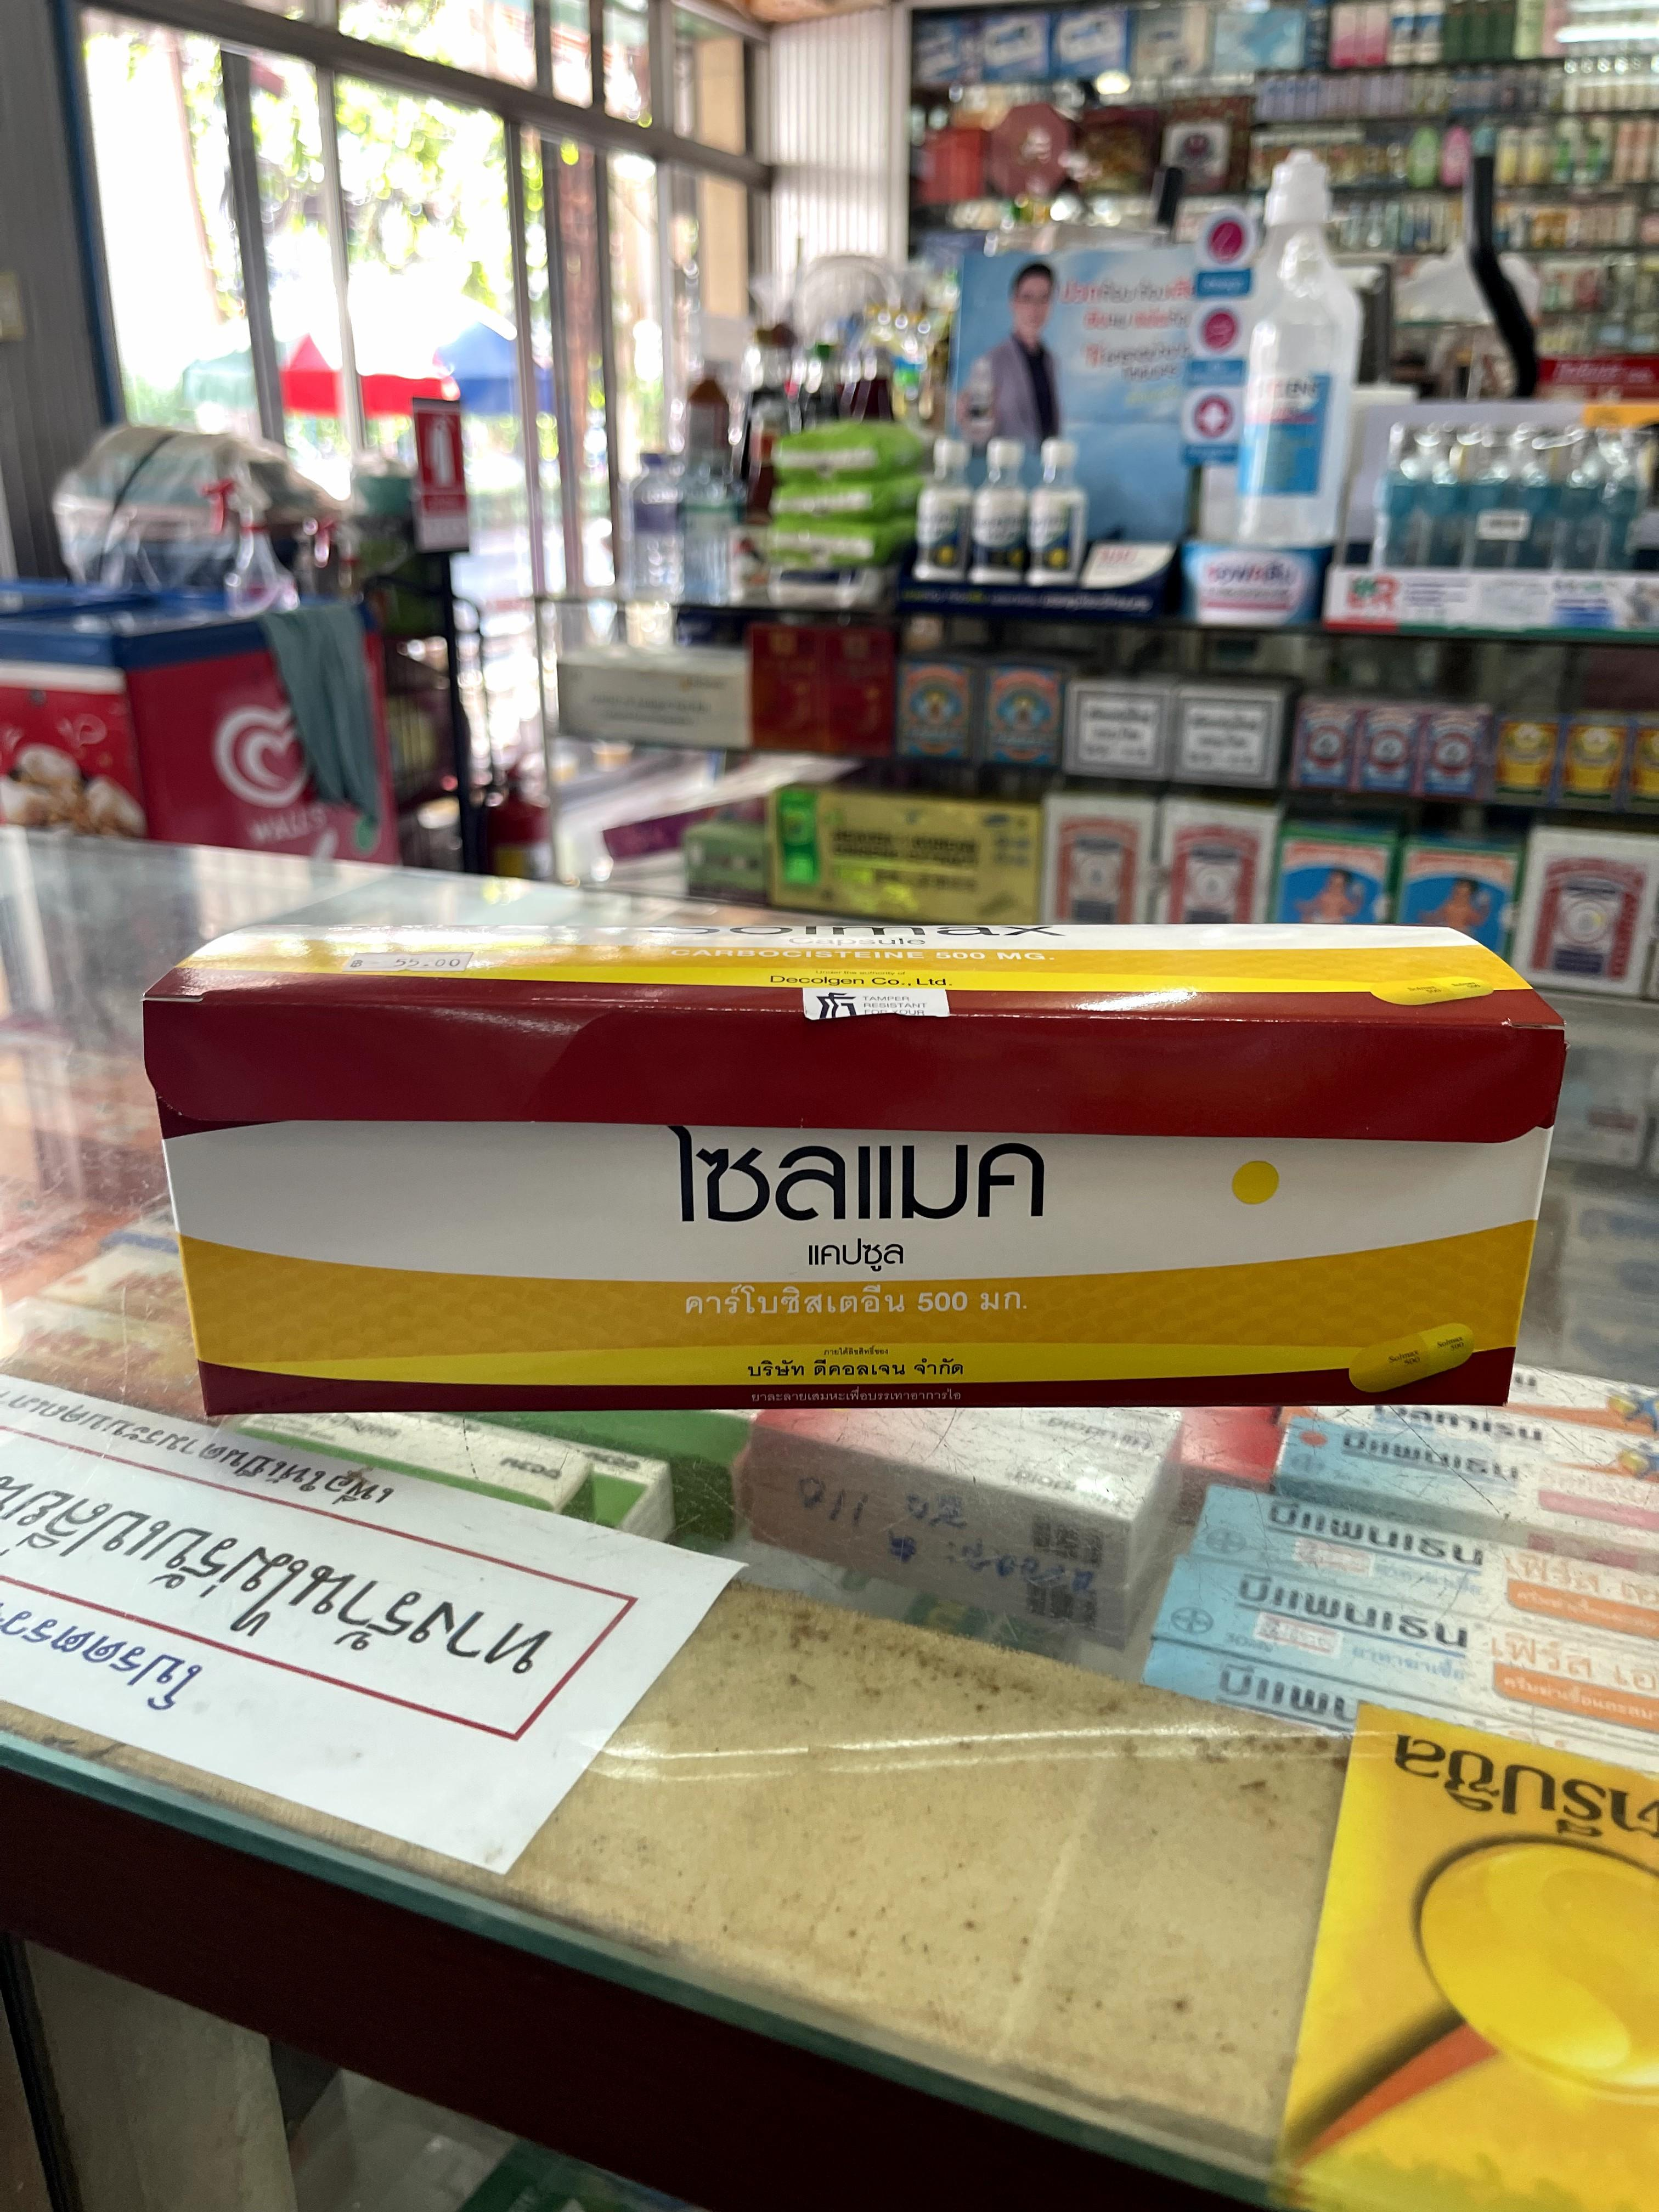Solmax-Capsule: (143, 921, 1568, 1419)
